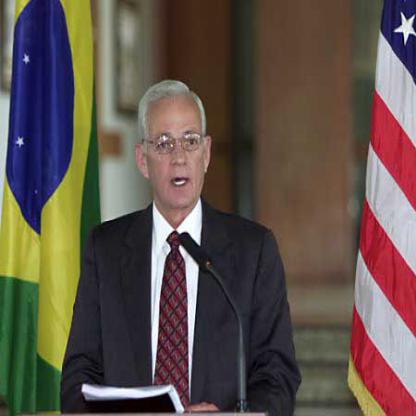face: (147, 83, 209, 213)
